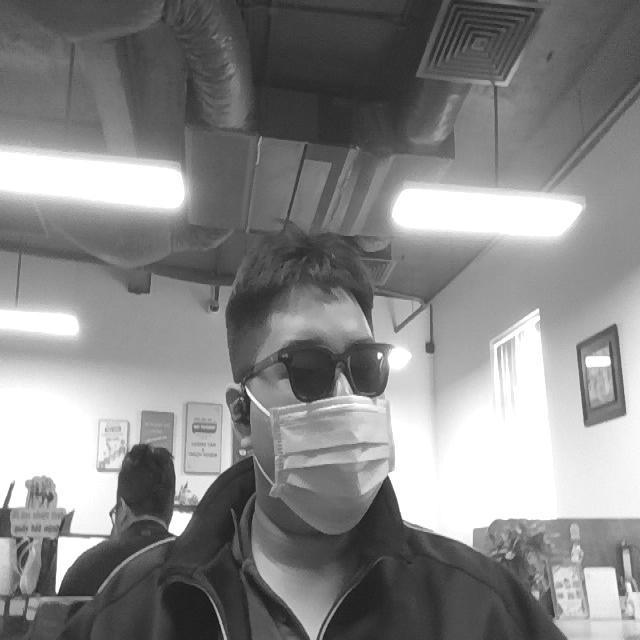fake: (268, 398, 401, 534), (241, 336, 399, 404)
